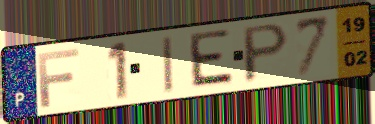1: (105, 39, 130, 102)
7: (294, 13, 332, 81)
E: (188, 27, 237, 90)
F: (36, 46, 82, 110)
I: (161, 33, 176, 95)
P: (241, 21, 291, 86)
